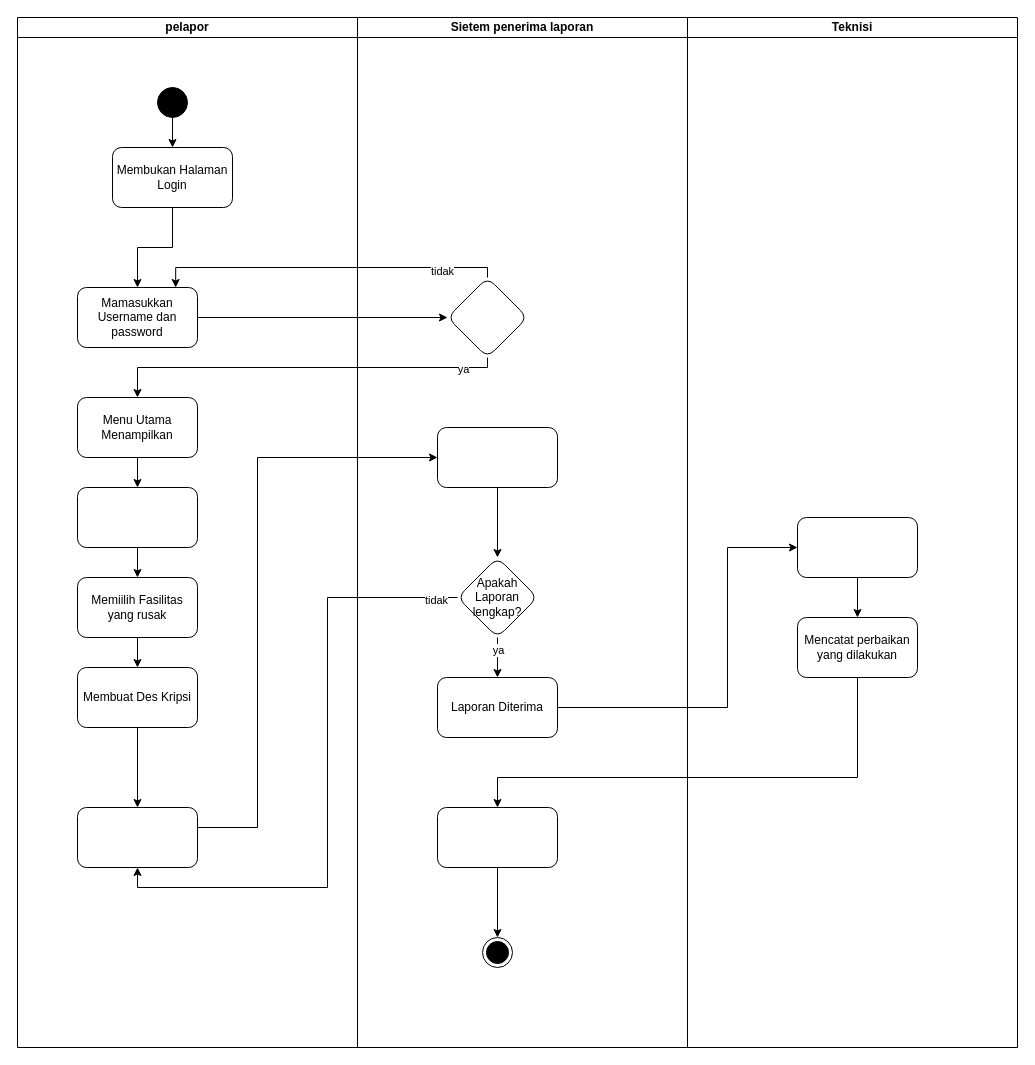
This 1035x1065 diagram has some shape labels left out. Each missing label, with the centre of its shape:
Apakah Passsword benar?: (x=487, y=317)
Diperbaiki: (x=497, y=837)
Ditugaskan: (x=857, y=547)
melaporkan: (x=137, y=837)
Memeriksa lapran: (x=497, y=457)
Memilih Lokasi atau tempat: (x=137, y=517)
